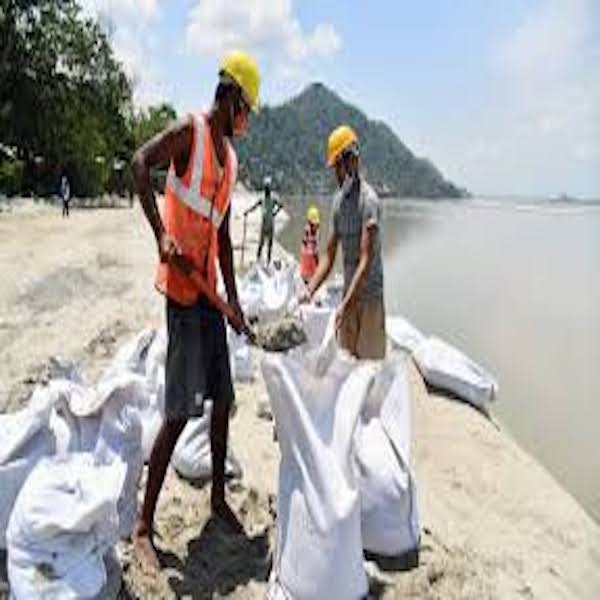helmet: (219, 49, 269, 105), (324, 119, 359, 158)
vest: (159, 123, 249, 299)
